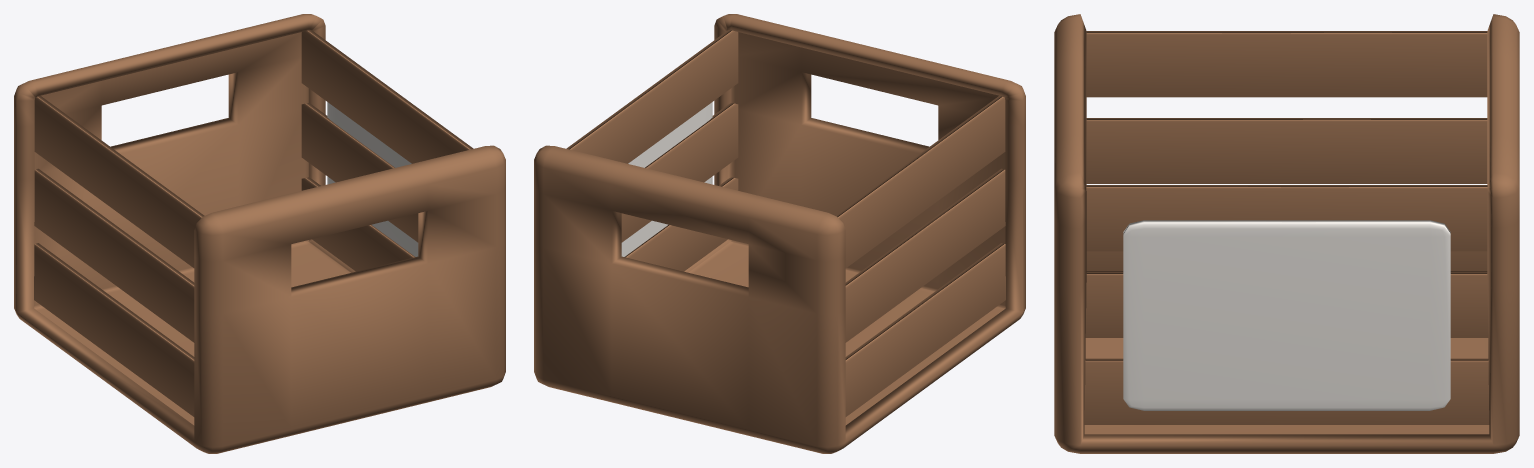
Rendered from Caja.fbx.
3 views of the same model, side by side, from view 1: azimuth 30°, elevation 25°; view 2: azimuth 150°, elevation 25°; view 3: azimuth 270°, elevation 25° (orthographic). The views are drawn at different scales.
Parts seen in each view (by area): view 1: Cube.001, Cube.002, Cube.003; view 2: Cube.001, Cube.002, Cube.003; view 3: Cube.002, Cube.003, Cube.001.
Part boxes in pixels (x1=…): Cube.001: x1=14, y1=14, x2=505, y2=453; Cube.002: x1=34, y1=30, x2=473, y2=416; Cube.003: x1=327, y1=102, x2=418, y2=256; Cube.001: x1=534, y1=14, x2=1025, y2=453; Cube.002: x1=566, y1=30, x2=1005, y2=416; Cube.003: x1=621, y1=102, x2=712, y2=256; Cube.002: x1=1084, y1=31, x2=1489, y2=424; Cube.003: x1=1123, y1=220, x2=1450, y2=410; Cube.001: x1=1054, y1=14, x2=1519, y2=453.
Bounding box in the file's own units: 161 × 119 × 180.
